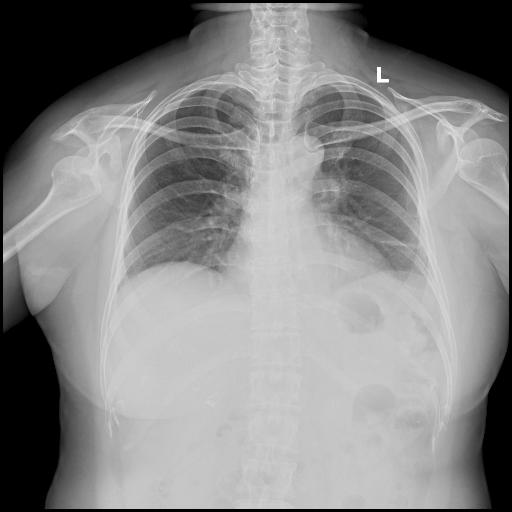Aortic enlargement: (258, 119, 304, 153)
Cardiomegaly: (127, 214, 305, 268)
Pulmonary fibrosis: (358, 228, 402, 244)
